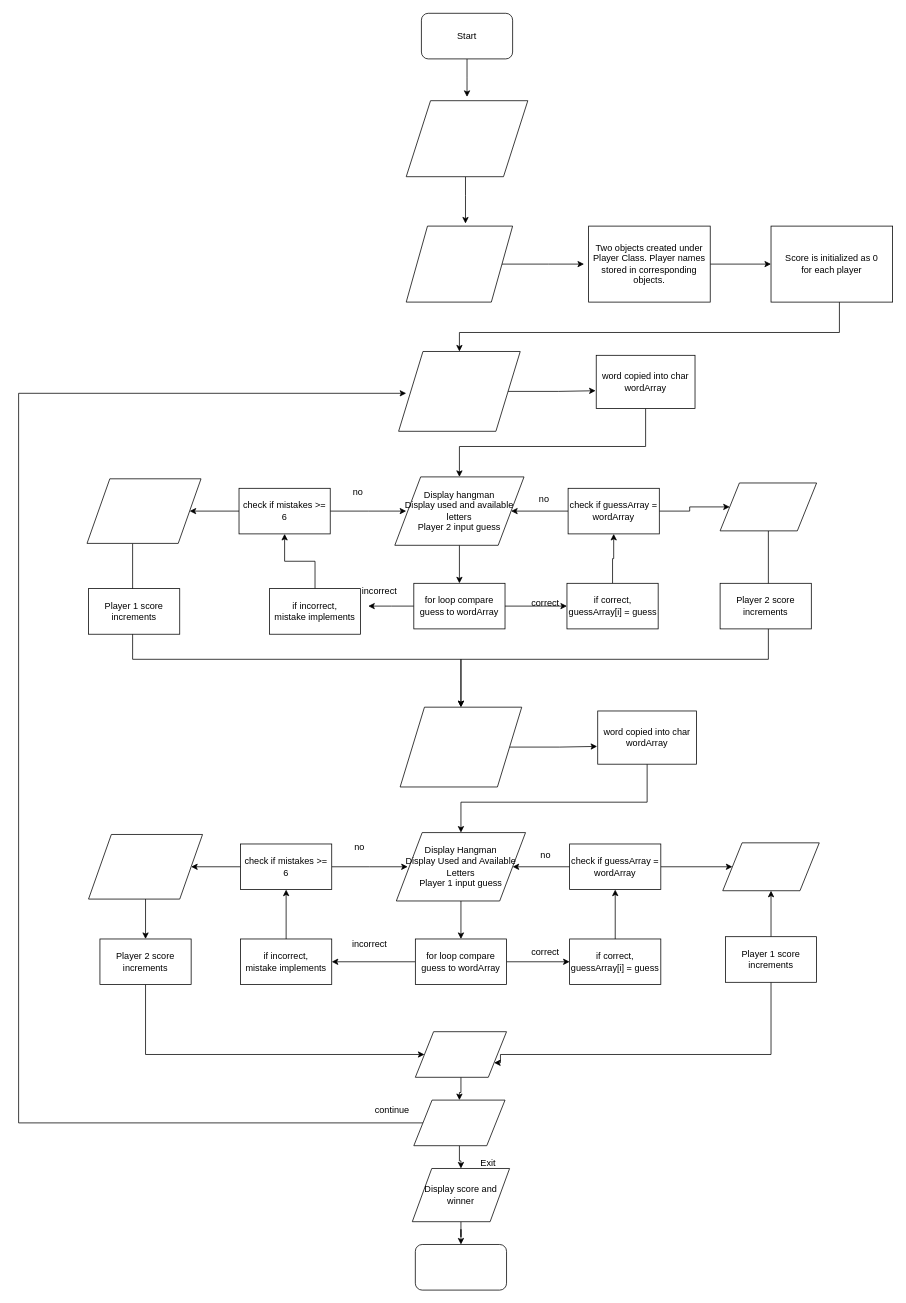
Image size: 906x1303. Some labels were removed from this diagram. Each missing label, with the box of its shape:
Continue or Exit: (413, 1099, 505, 1146)
Display Score: (415, 1031, 507, 1077)
end: (415, 1244, 507, 1290)
Input/Output: Player names: (405, 225, 513, 302)
Output: Title and Instructions: (405, 100, 528, 177)
Player 1 guessed correctly: (722, 842, 819, 891)
Player 1 input word: (398, 351, 520, 431)
Player 1 made too many mistakes: (88, 834, 203, 899)
Player 2 guessed correctly: (719, 482, 817, 531)
Player 2 input word: (399, 706, 522, 787)
Player 2 made too many mistakes: (86, 478, 201, 543)
